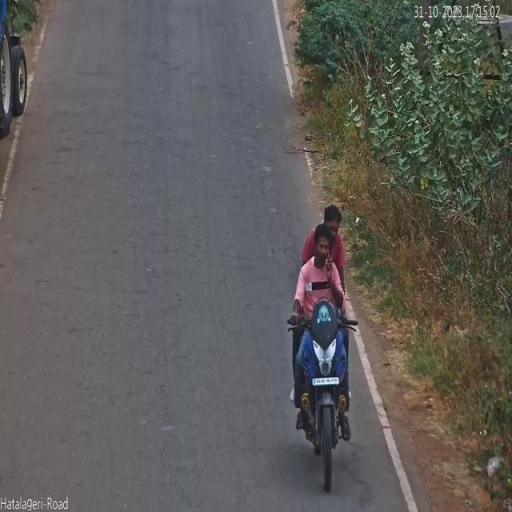using mobile: (324, 244, 334, 280)
